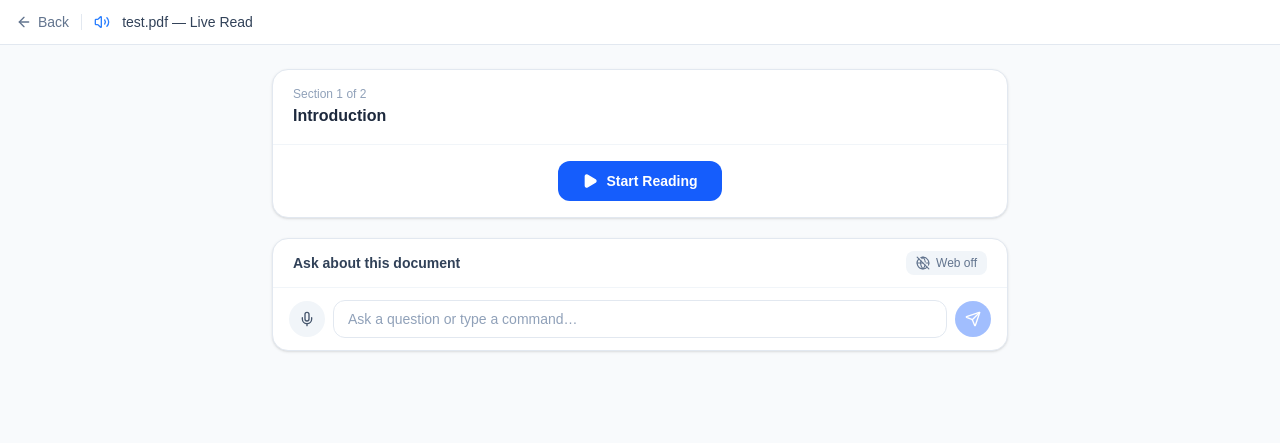
LiveReader — section loading › shows an error state when TTS fetch fails
Click the button "Start Reading": (640, 181) [558,161,722,201]
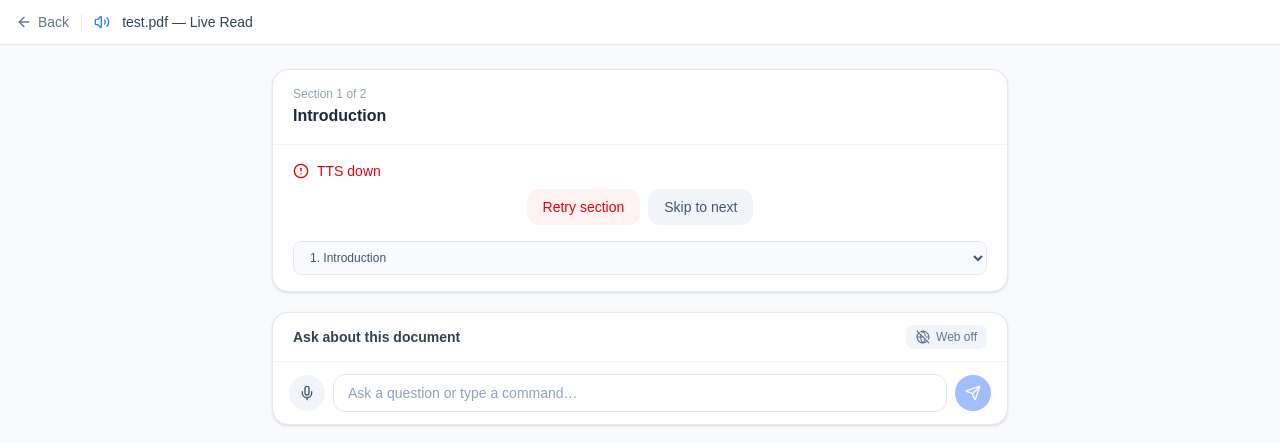
expect the button "Retry section" is shown: met, box [527,189,640,225]
